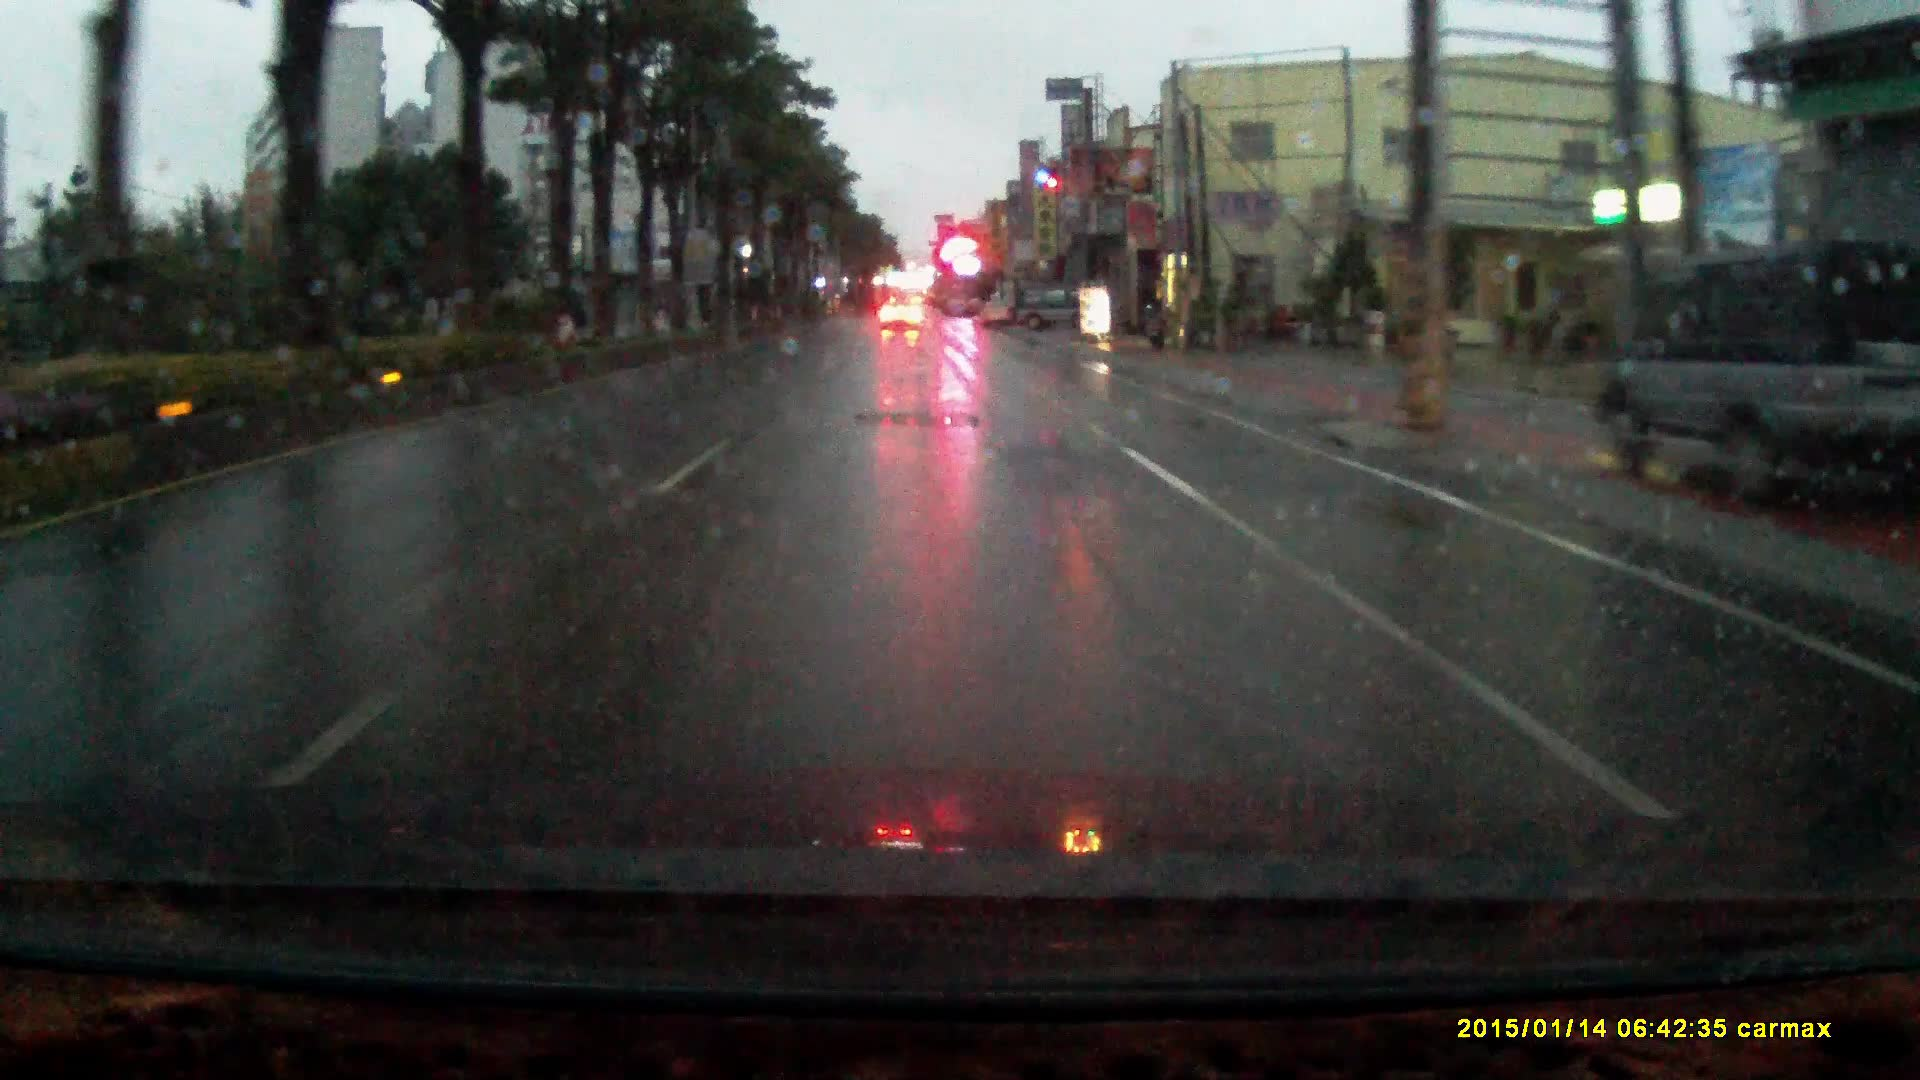vehicle: (1604, 233, 1917, 502), (1017, 282, 1085, 326), (880, 290, 926, 327)
